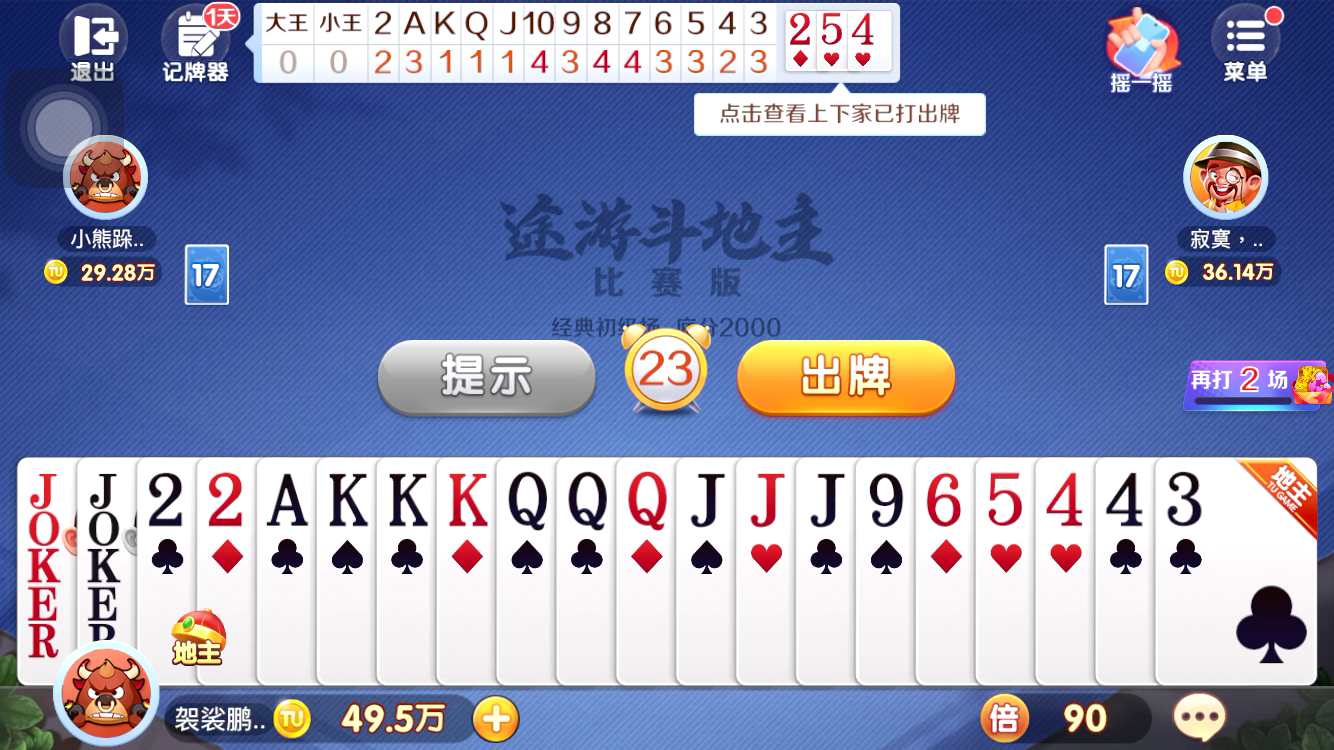A: (261, 465, 313, 537)
J: (680, 464, 728, 536), (740, 463, 788, 532), (802, 466, 848, 536)
JOKER: (16, 463, 77, 591)
K: (320, 464, 373, 537), (381, 463, 433, 536), (441, 463, 493, 534)
Q: (619, 467, 672, 537), (501, 465, 551, 536), (562, 468, 611, 538)
five: (979, 462, 1035, 531), (818, 9, 846, 46)
four: (1100, 465, 1150, 536), (1038, 466, 1089, 534), (846, 12, 882, 47)
joker: (81, 465, 129, 590)
nine: (861, 466, 910, 537)
six: (918, 466, 971, 536)
three: (1159, 465, 1215, 537)
two: (139, 465, 191, 537), (200, 468, 252, 536), (787, 13, 821, 50)
